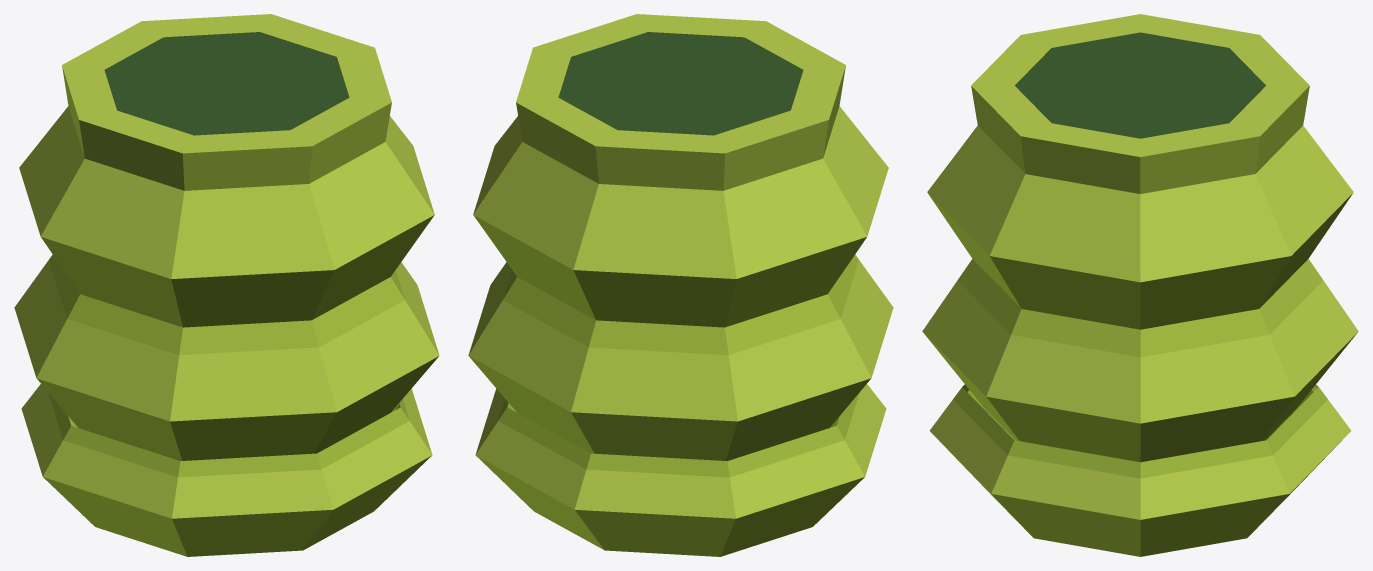
Rendered from elasticPot.fbx.
3 views of the same model, side by side, from view 1: azimuth 30°, elevation 25°; view 2: azimuth 150°, elevation 25°; view 3: azimuth 270°, elevation 25° (orthographic).
Visible parts, largest first — view 1: Mesh_ElasticPot; view 2: Mesh_ElasticPot; view 3: Mesh_ElasticPot.
Part boxes in pixels (box(x1,y1,x2,y2)): Mesh_ElasticPot: box(14, 14, 439, 556); Mesh_ElasticPot: box(468, 14, 893, 556); Mesh_ElasticPot: box(922, 14, 1358, 556).
Bounding box in the file's own units: 1.53 × 1.53 × 1.58.
